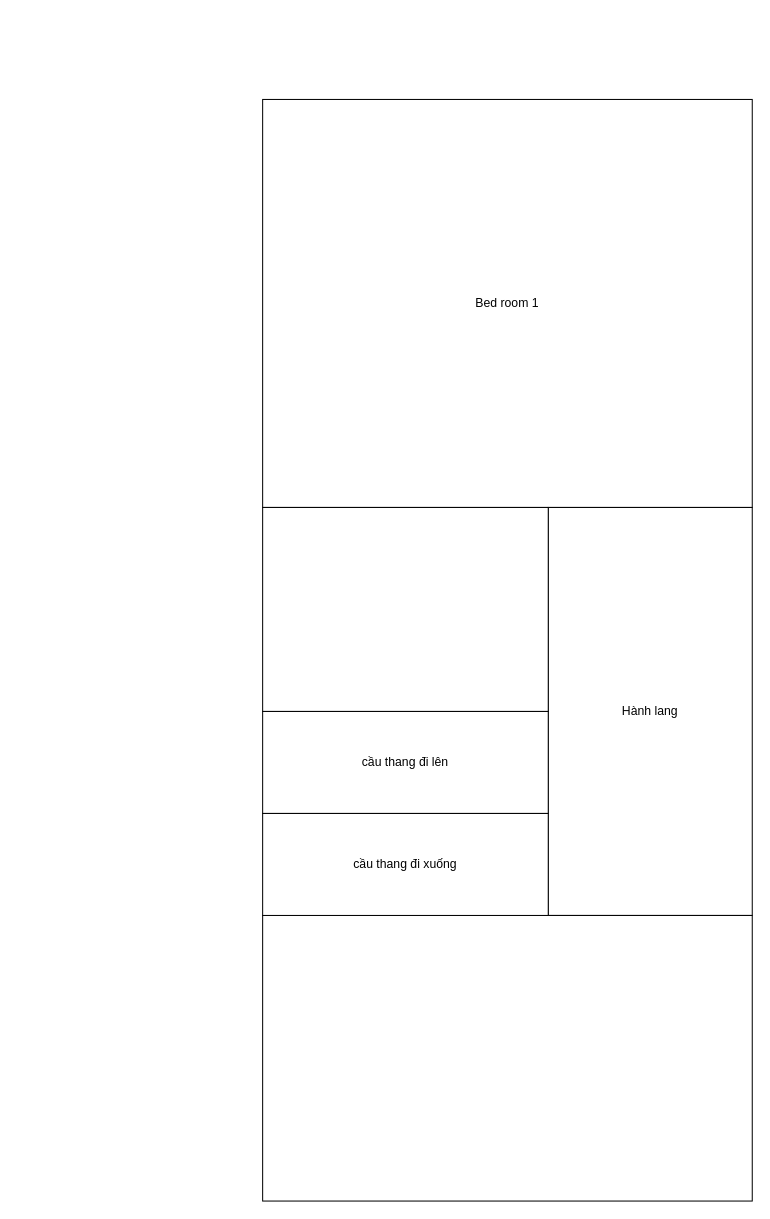
Some shapes in this 770 by 1219 pixel diagram are drawn without their labels. Each missing label, with the box of its shape:
bedroom 2: (262, 914, 752, 1201)
Toilet: (262, 506, 548, 711)
